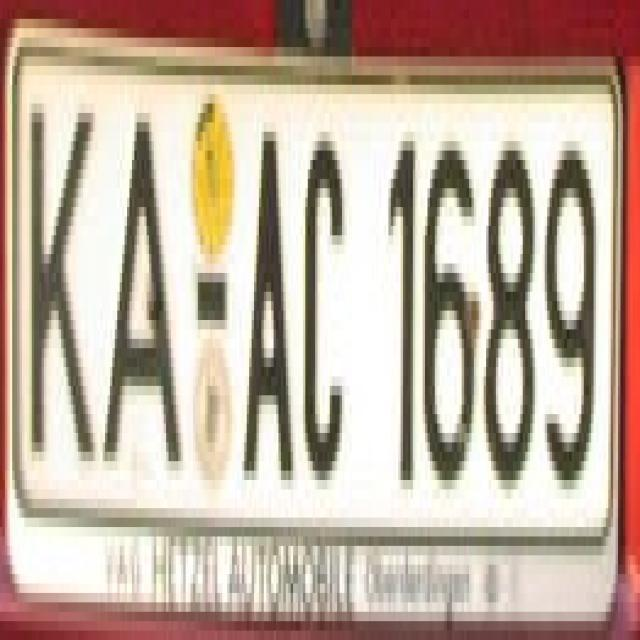1: (384, 132, 416, 490)
6: (422, 142, 474, 490)
8: (484, 142, 536, 490)
9: (542, 132, 598, 490)
A: (105, 94, 176, 461), (244, 122, 293, 480)
C: (303, 122, 342, 490)
K: (30, 104, 90, 452)
